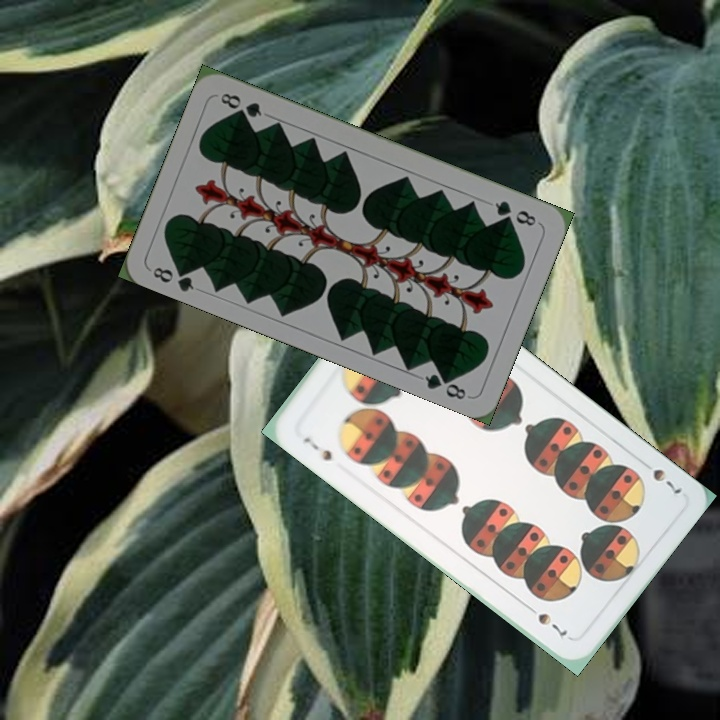G8: (148, 261, 197, 295), (491, 196, 539, 229)
S7: (648, 464, 685, 497), (299, 433, 335, 464)
